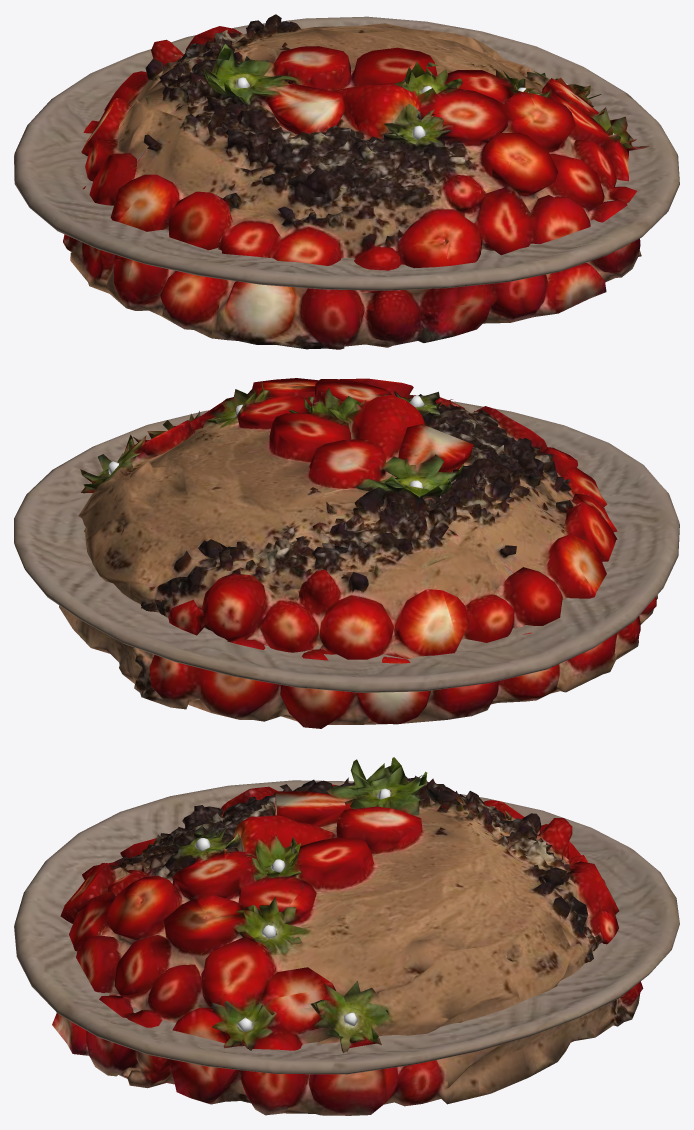
File: restaurant-hero.glb
The picture shows the model from 3 angles, top to bottom: view 1: azimuth 30°, elevation 25°; view 2: azimuth 150°, elevation 25°; view 3: azimuth 270°, elevation 25°; orthographic projection. The views are drawn at different scales.
Parts seen in each view (by area): view 1: strawberry_chocolate_cake, carved_wooden_plate; view 2: strawberry_chocolate_cake, carved_wooden_plate; view 3: strawberry_chocolate_cake, carved_wooden_plate.
Part boxes in pixels (x1,y1,x2,y2): strawberry_chocolate_cake: (63, 14, 649, 349); carved_wooden_plate: (14, 16, 679, 290); strawberry_chocolate_cake: (59, 378, 657, 728); carved_wooden_plate: (14, 401, 679, 692); strawberry_chocolate_cake: (52, 757, 643, 1115); carved_wooden_plate: (14, 780, 679, 1074).
Size of the model in its own units: 0.2718 by 0.0811 by 0.2688.
3 materials, 3 textured.
